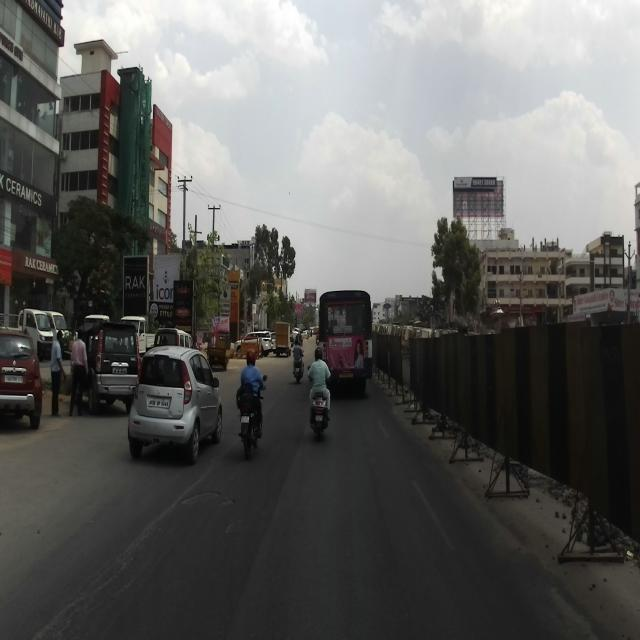Car_Mahindra: (70, 324, 140, 414)
Car_Maruti-Suzuki: (128, 346, 222, 463)
Car_Renault: (0, 323, 43, 430)
bus: (319, 290, 373, 394)
motorcycle_Hero: (237, 374, 267, 458)
scooter: (306, 364, 332, 438)
